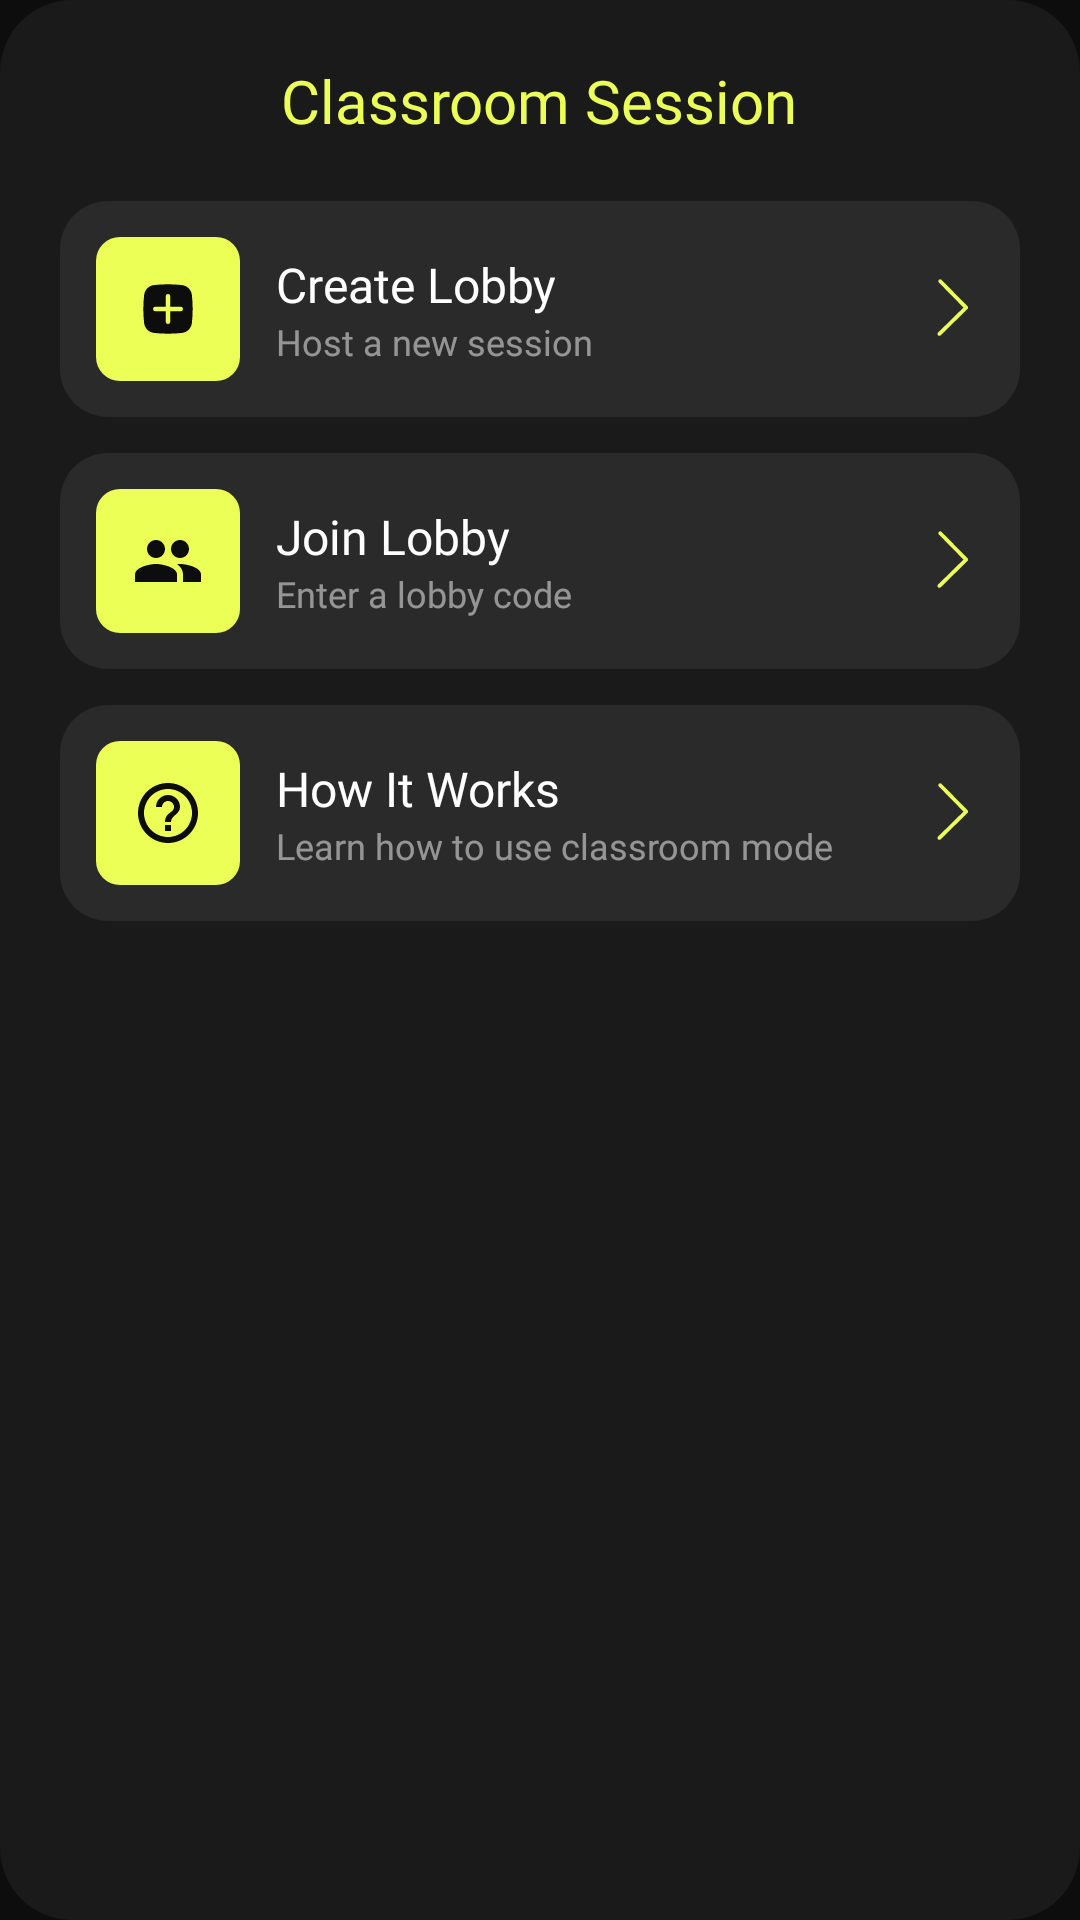

Named icons in this screenshot (1080×1920) and their centers, (x,y):
chevron right: (952,307), (952,559), (952,811)
plus: (168,309)
